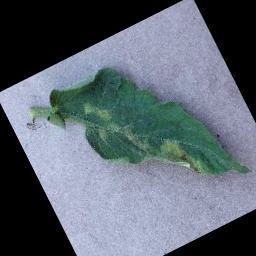Leaf_Mold: (155, 129, 203, 187)
